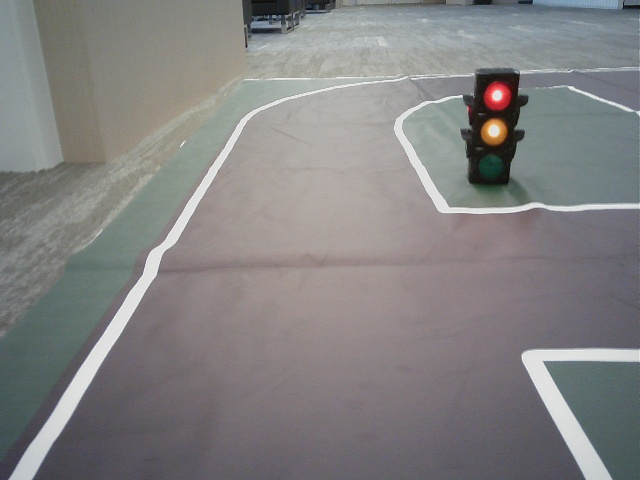red: (473, 74, 511, 185)
